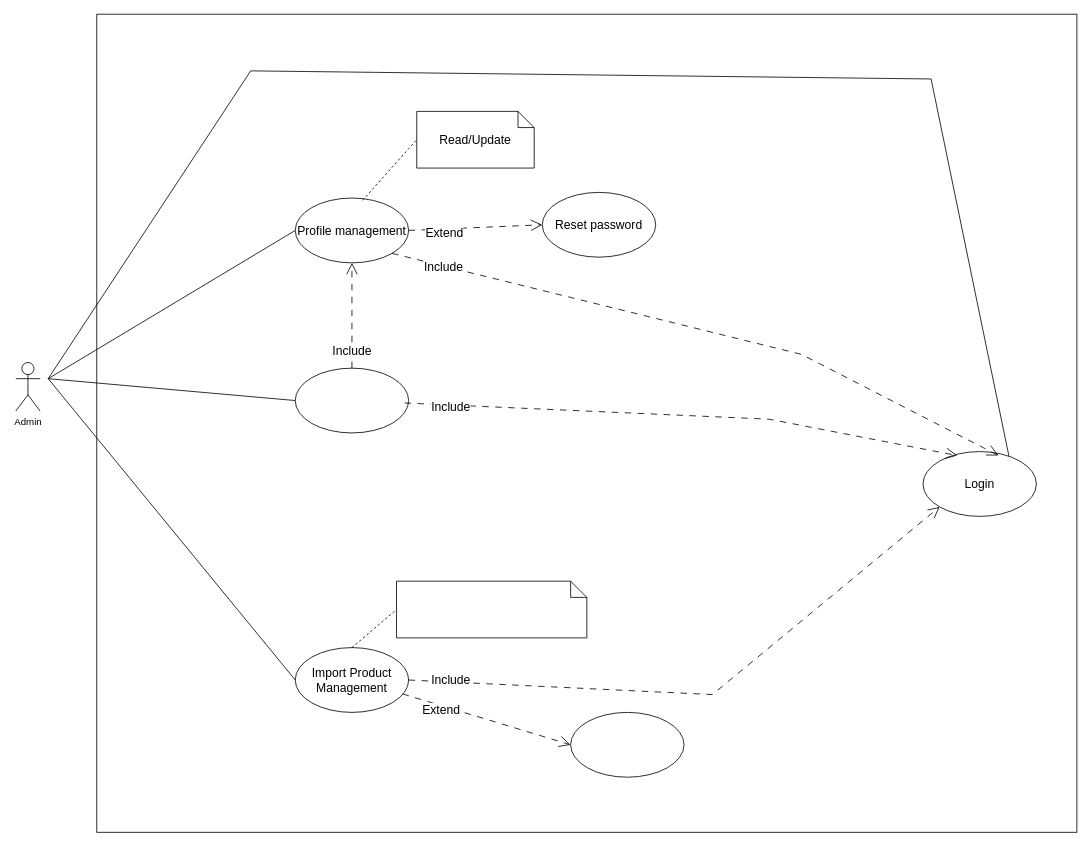
Some shapes in this 1091 by 846 pixel diagram are drawn without their labels. The shapes that lost their labels are listed below. From the top down, each one's centre as x and y in pixels, then its label:
pixel 351 400: Logout
pixel 491 609: Create/Read
pixel 627 744: Search Imported Prodcut
